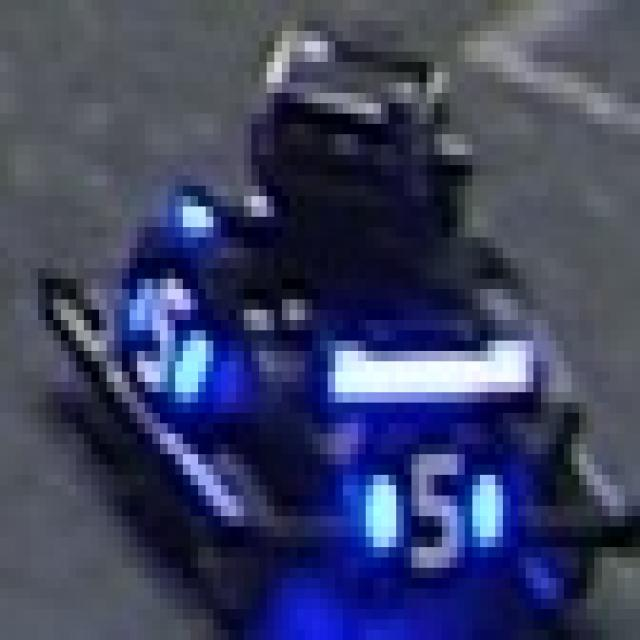B5: (358, 444, 503, 568), (114, 258, 213, 403)
